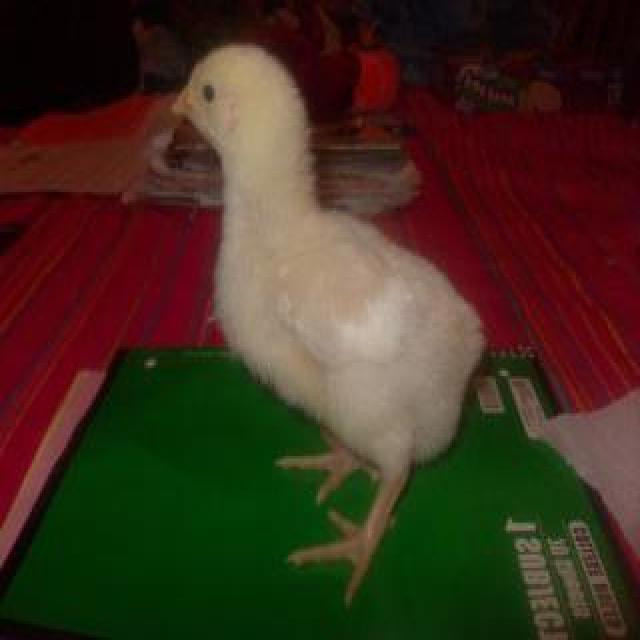poussin: (168, 45, 480, 608)
